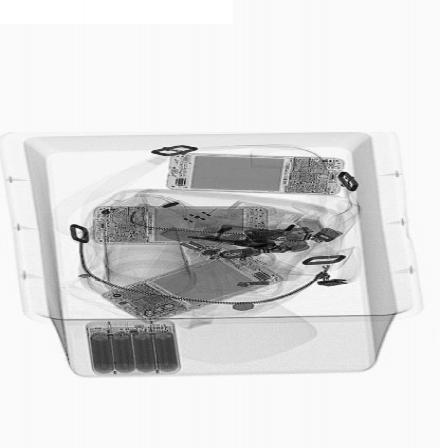Powerbank: (86, 323, 182, 376)
